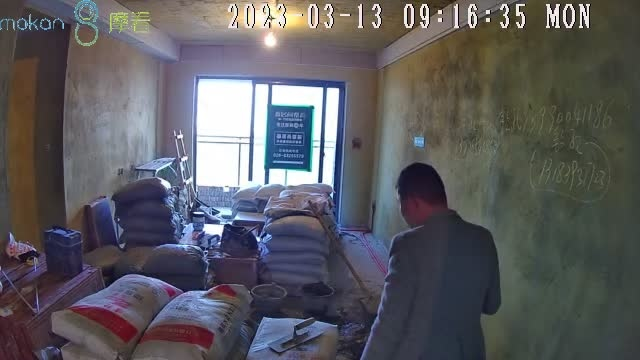people: (361, 162, 502, 360)
window: (195, 78, 340, 190)
